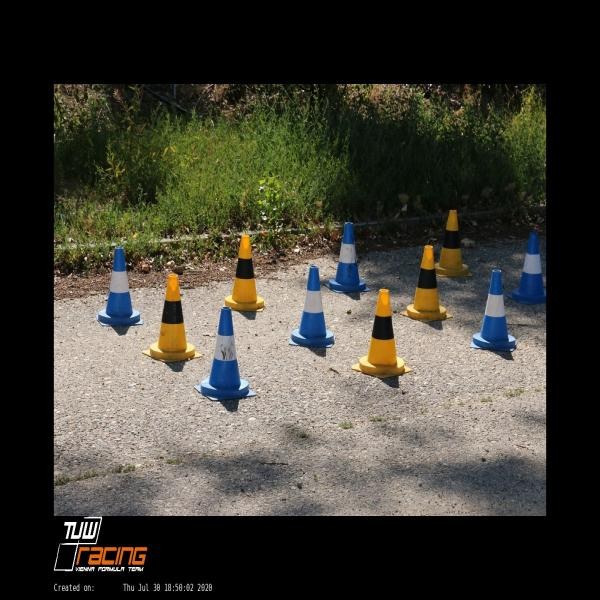blue_cone: (194, 307, 256, 400), (470, 270, 517, 352), (95, 247, 143, 325), (289, 266, 335, 347), (324, 222, 371, 294), (507, 232, 546, 304)
yellow_cone: (142, 274, 202, 363), (352, 289, 411, 379), (400, 246, 453, 323), (222, 235, 266, 312), (430, 210, 473, 277)
